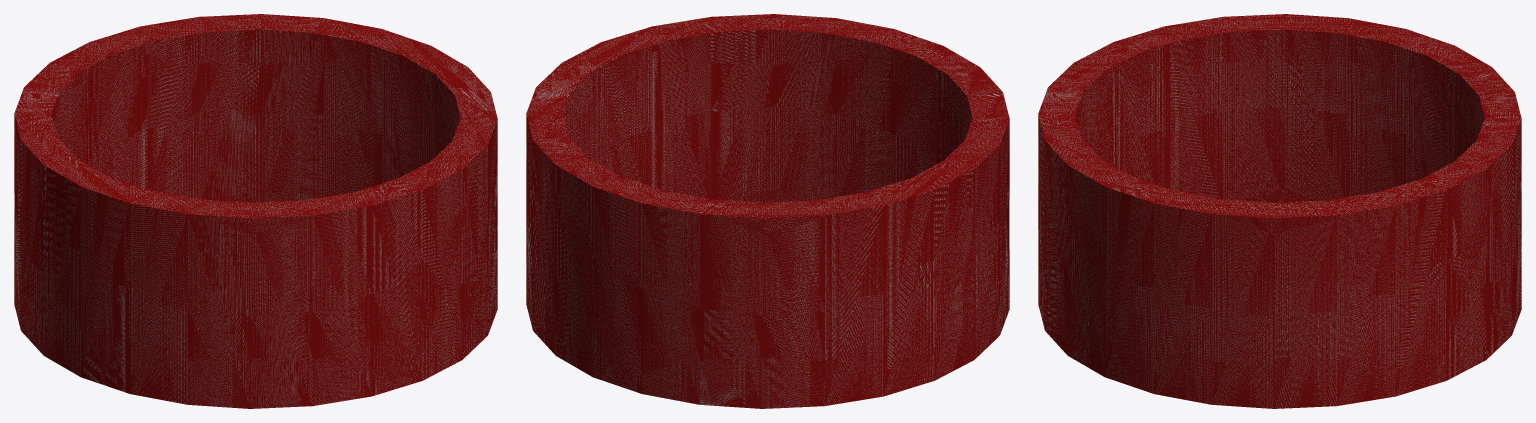
File: original-5.obj
The picture shows the model from 3 angles, left to right: view 1: azimuth 30°, elevation 25°; view 2: azimuth 150°, elevation 25°; view 3: azimuth 270°, elevation 25°; orthographic projection.
Visible parts, largest first — view 1: #ID119; view 2: #ID119; view 3: #ID119.
Part boxes in pixels (box(x1,y1,x2,y2)): #ID119: box(14, 14, 497, 408); #ID119: box(526, 14, 1009, 408); #ID119: box(1038, 14, 1521, 408).
Size of the model in its own units: 0.294 by 0.1279 by 0.294.
